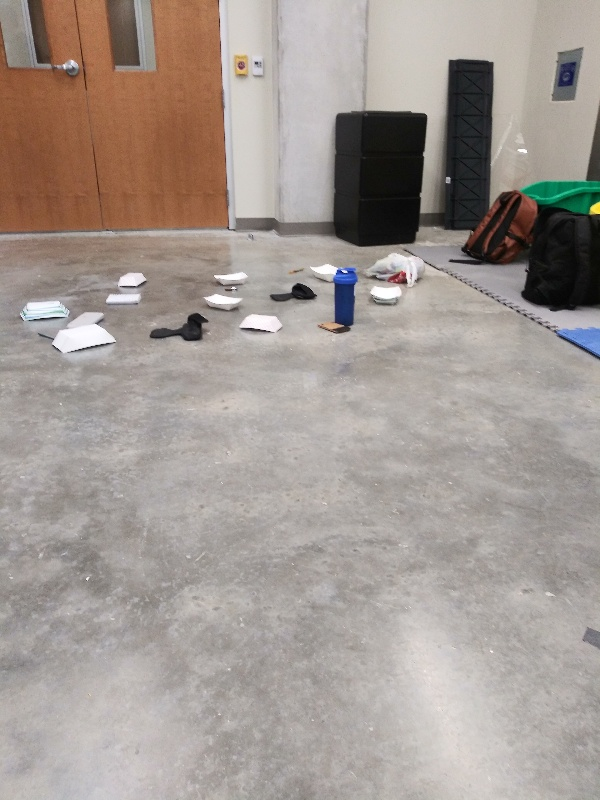plate: (49, 320, 119, 356), (15, 297, 72, 326), (234, 312, 286, 336), (200, 290, 249, 312), (367, 282, 405, 306), (307, 259, 338, 286), (211, 268, 252, 287), (115, 268, 147, 292)
